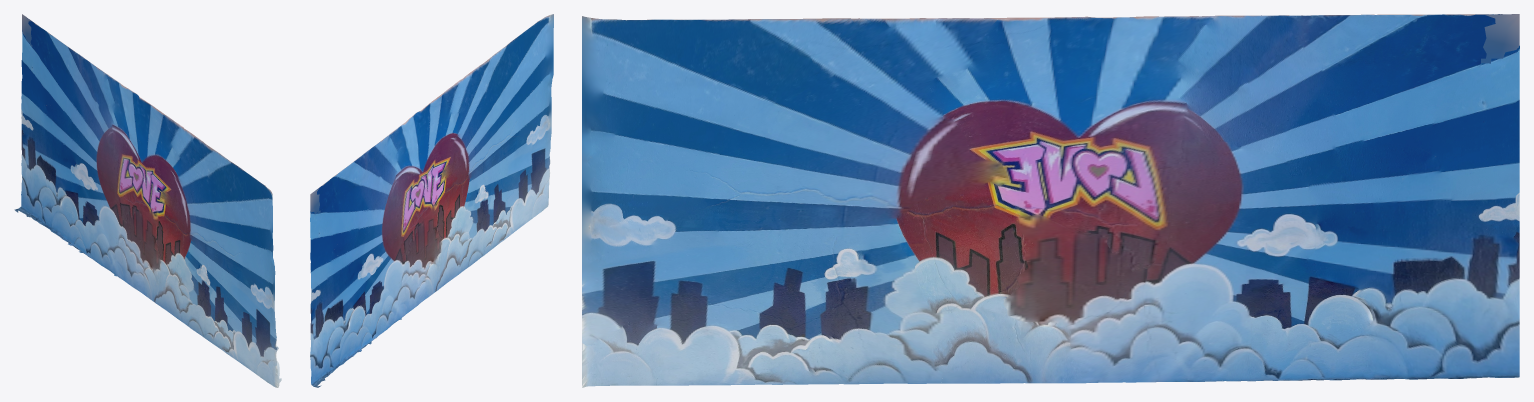
The model's file is love_city_in_the_clouds_mural_art.glb.
3 renders of one model, left to right at view 1: azimuth 30°, elevation 25°; view 2: azimuth 150°, elevation 25°; view 3: azimuth 270°, elevation 25°, orthographic. The views are drawn at different scales.
Parts seen in each view (by area): view 1: Object_4; view 2: Object_4; view 3: Object_4.
Boxes of the visible parts, <box> form: Object_4: <box>14,14,281,387</box>; Object_4: <box>310,14,553,387</box>; Object_4: <box>582,14,1519,387</box>.
Bounding box in the file's own units: 0.3621 × 3.54 × 8.2.
Materials: 1 (1 with a texture image).
